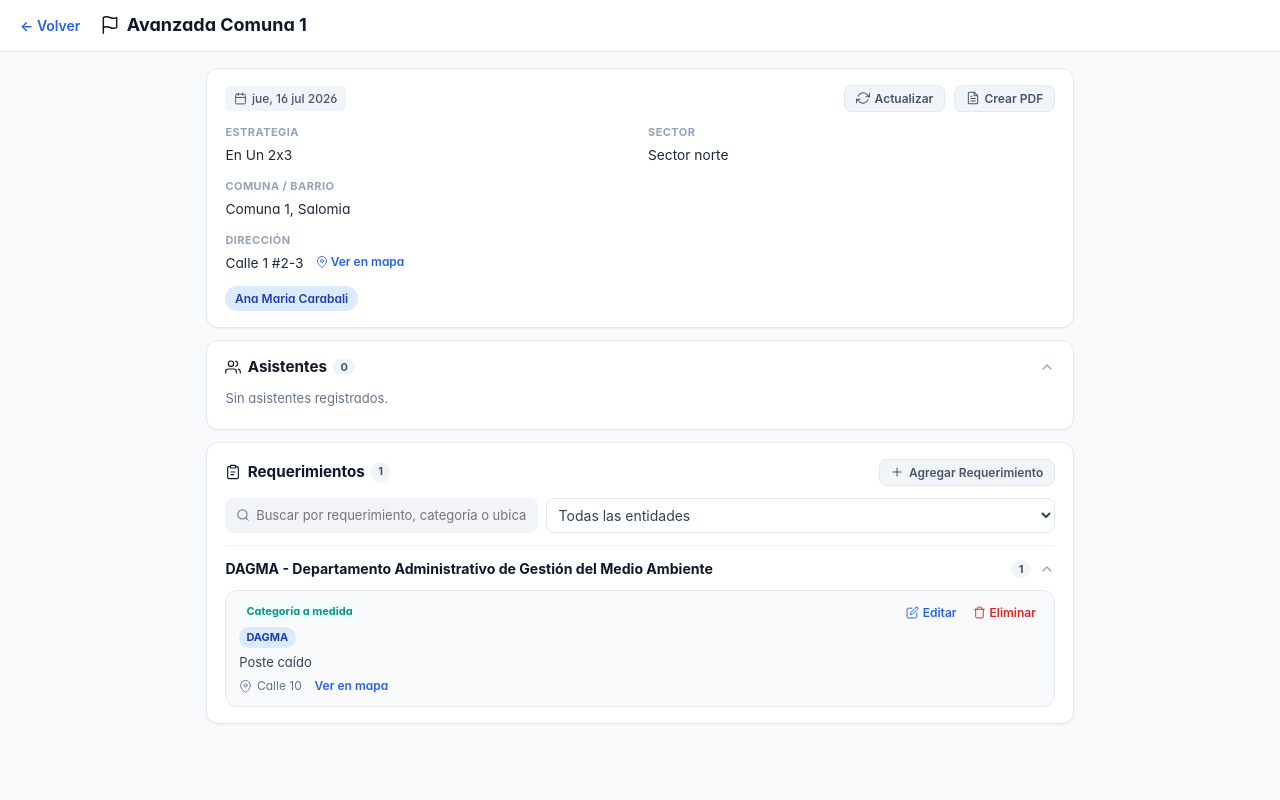
Test: DetalleAvanzada › edit requerimiento › prefills a categoría personalizada into the custom-category field
Click the button with aria-label "editar requerimiento". click: x=931, y=612
box: [901, 602, 961, 622]
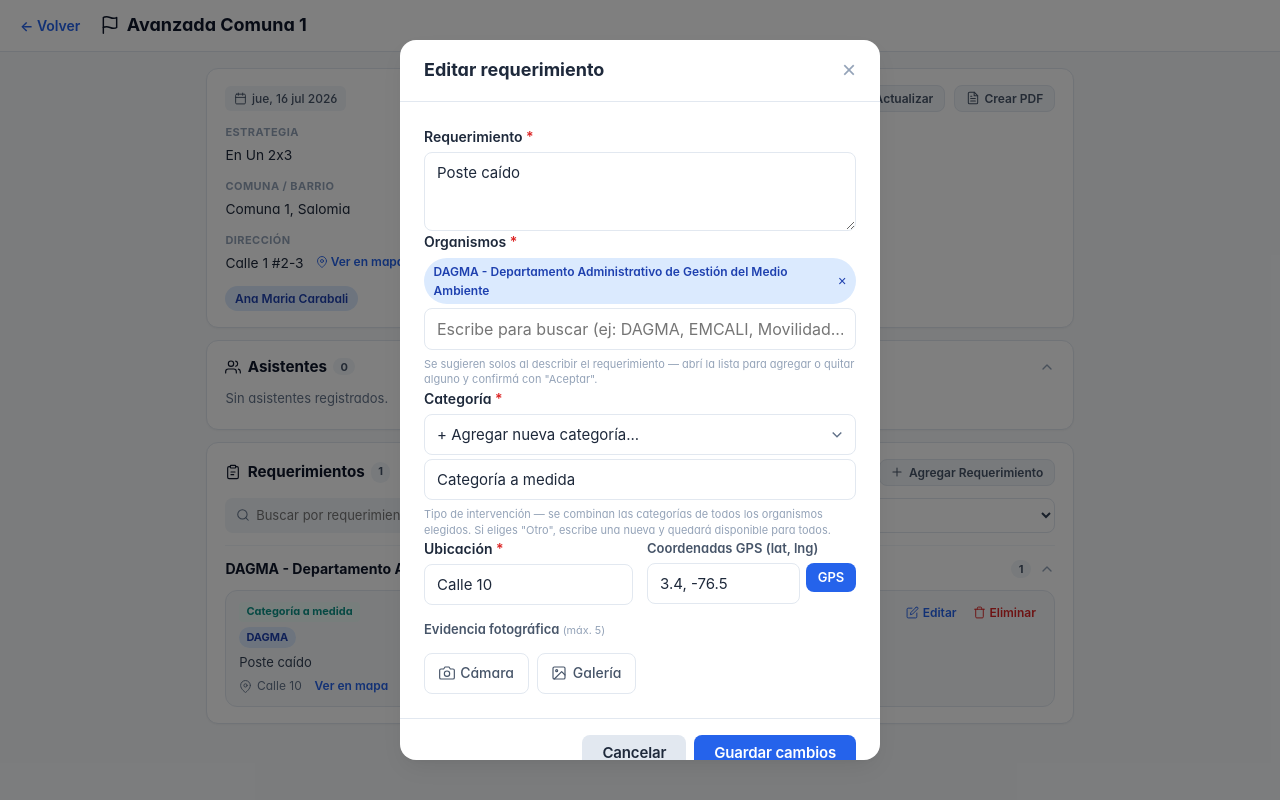
Check: the field showing "Categoría a medida" is shown, box [424, 459, 856, 500]
